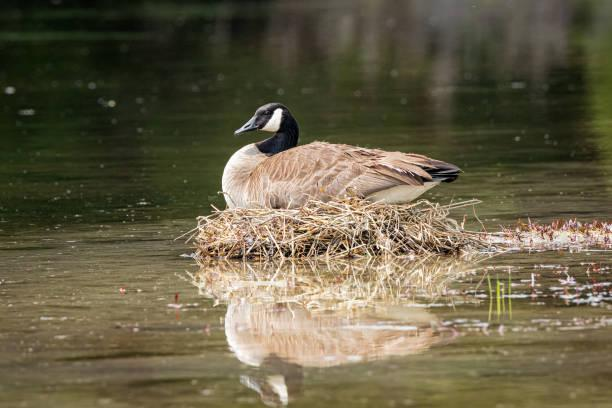Canadian-Goose: (218, 101, 458, 206)
